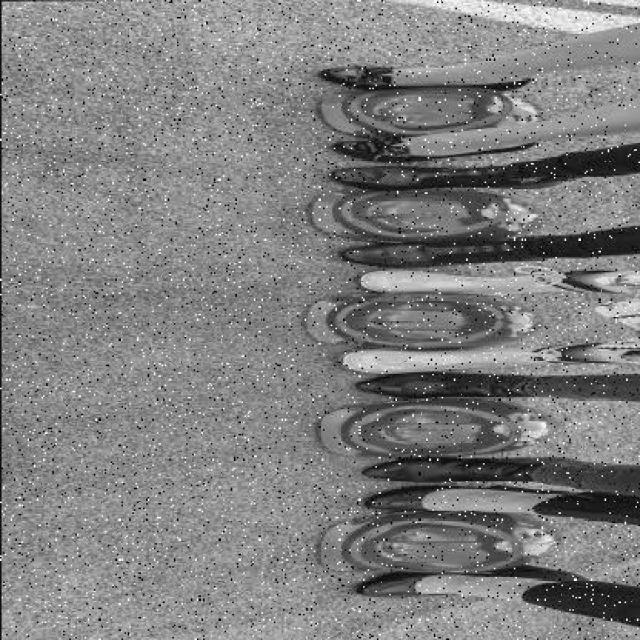shoes: (320, 232, 583, 270), (320, 154, 572, 192), (329, 336, 573, 375), (349, 268, 583, 301), (369, 372, 546, 408), (354, 457, 560, 485)
